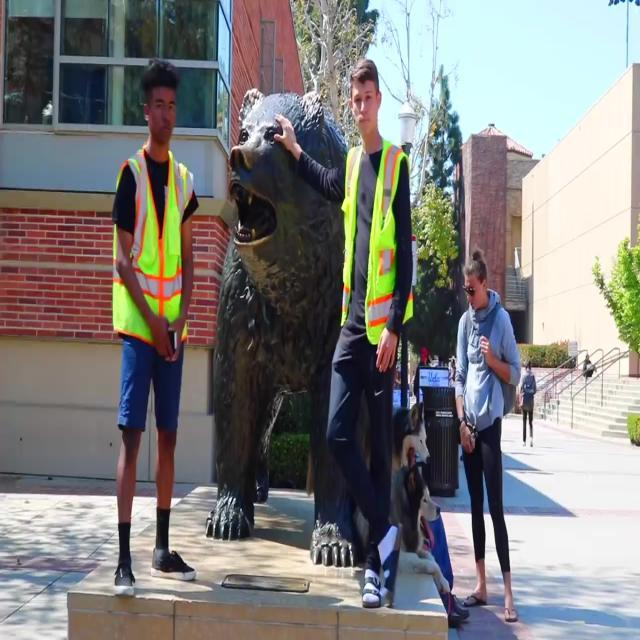reflective_jacket: (104, 143, 202, 359), (334, 133, 418, 363)
